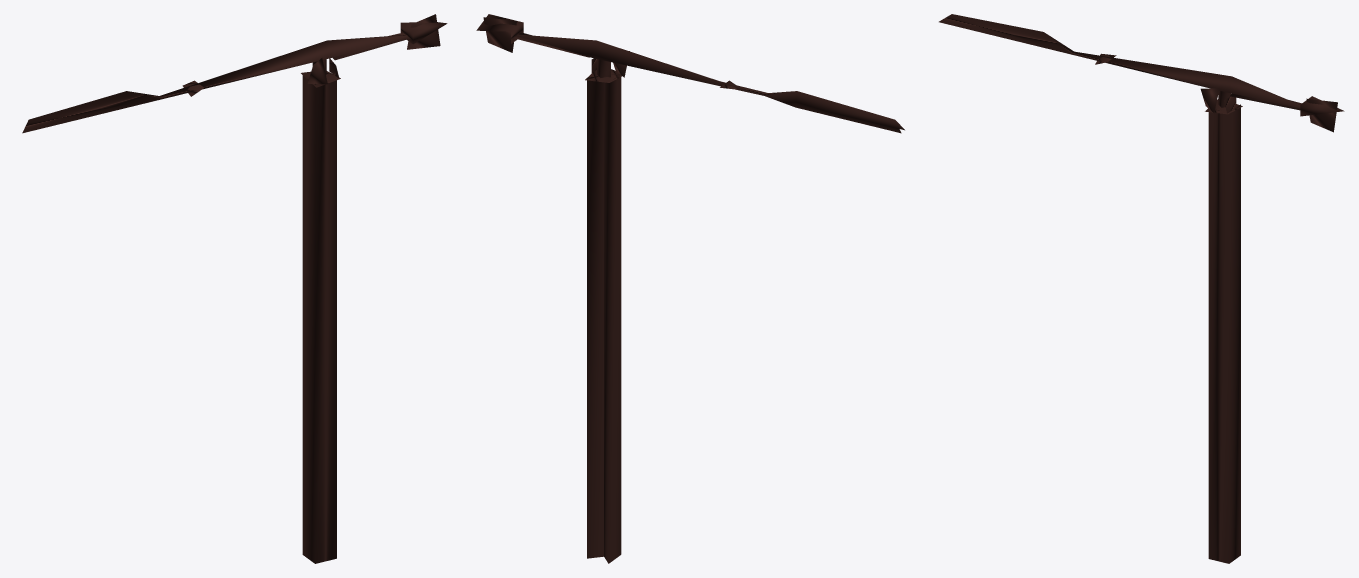
3 views of the same model, side by side, from view 1: azimuth 30°, elevation 25°; view 2: azimuth 150°, elevation 25°; view 3: azimuth 330°, elevation 25° (orthographic). The views are drawn at different scales.
Visible parts, largest first — view 1: merged__lod1; view 2: merged__lod1; view 3: merged__lod1.
Boxes of the visible parts, bbox=[...] form: merged__lod1: bbox=[22, 14, 447, 563]; merged__lod1: bbox=[476, 14, 904, 563]; merged__lod1: bbox=[939, 14, 1344, 563].
Size of the model in its own units: 67.99 by 78.95 by 4.62.
